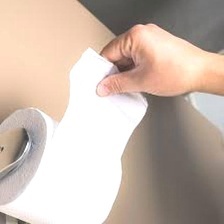tissue: (0, 43, 158, 224)
